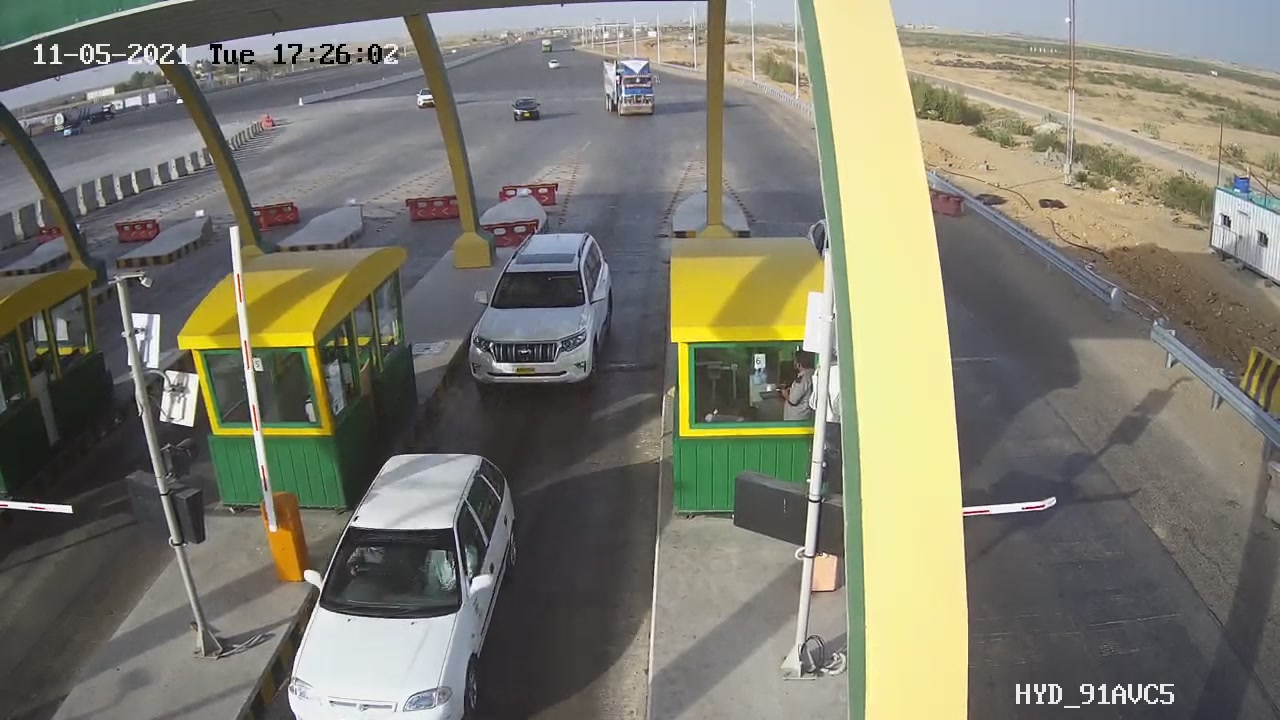F1: (450, 213, 634, 413)
